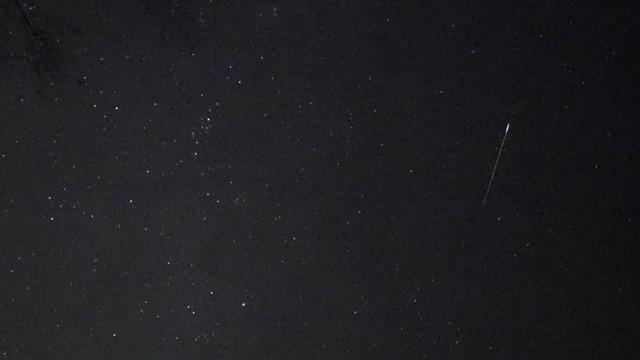meteorite: (460, 116, 522, 211)
